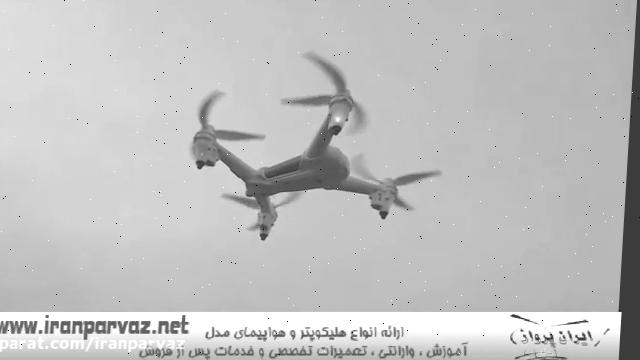drone: (180, 45, 455, 245)
